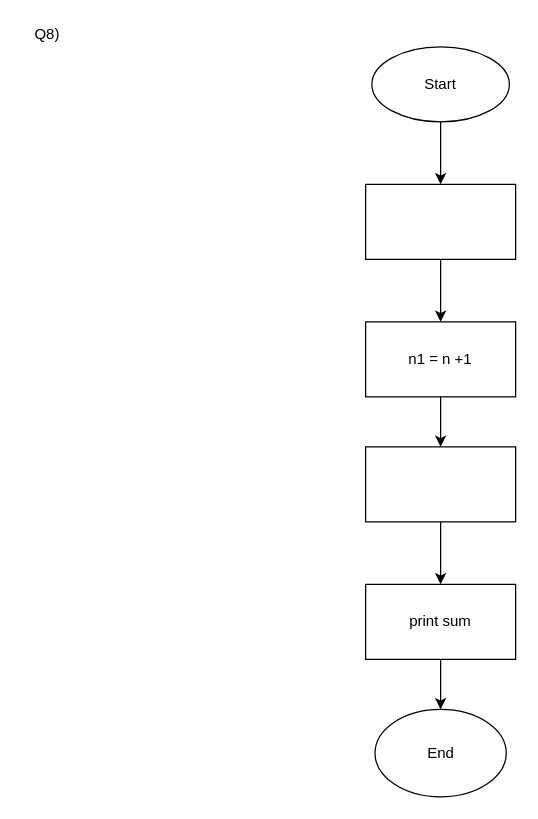
Image size: 538x819. Some labels were removed from this diagram. Each missing label, with the box of its shape:
n = 1000: (364, 183, 516, 259)
sum = n1 * n / 2: (364, 446, 516, 522)
